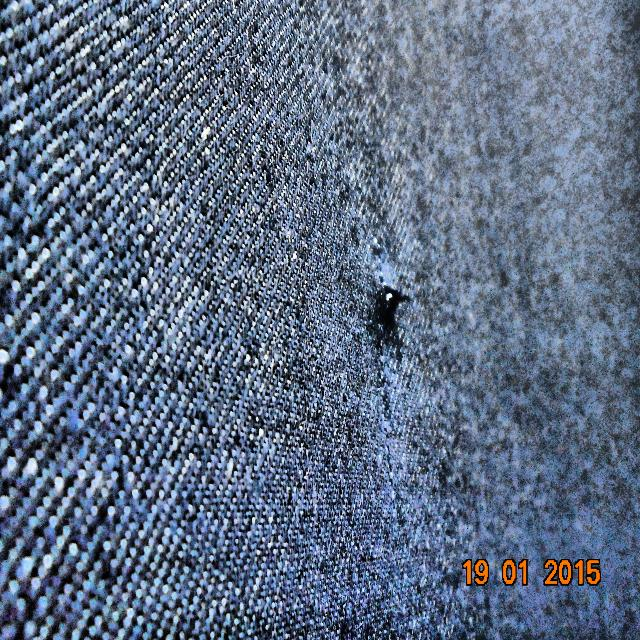Hole: (360, 266, 433, 352)
